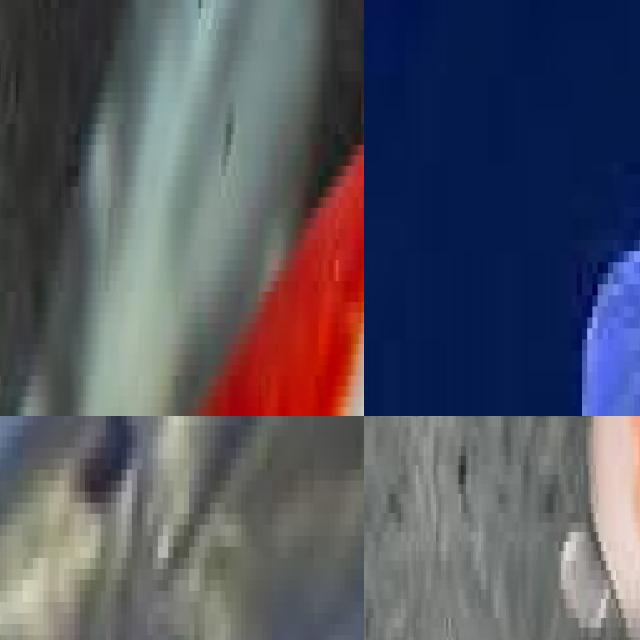fish: (0, 0, 364, 416), (389, 0, 640, 416), (364, 416, 640, 640)
